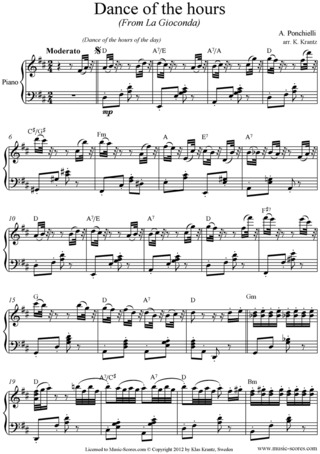Partitura: (0, 1, 320, 447)
